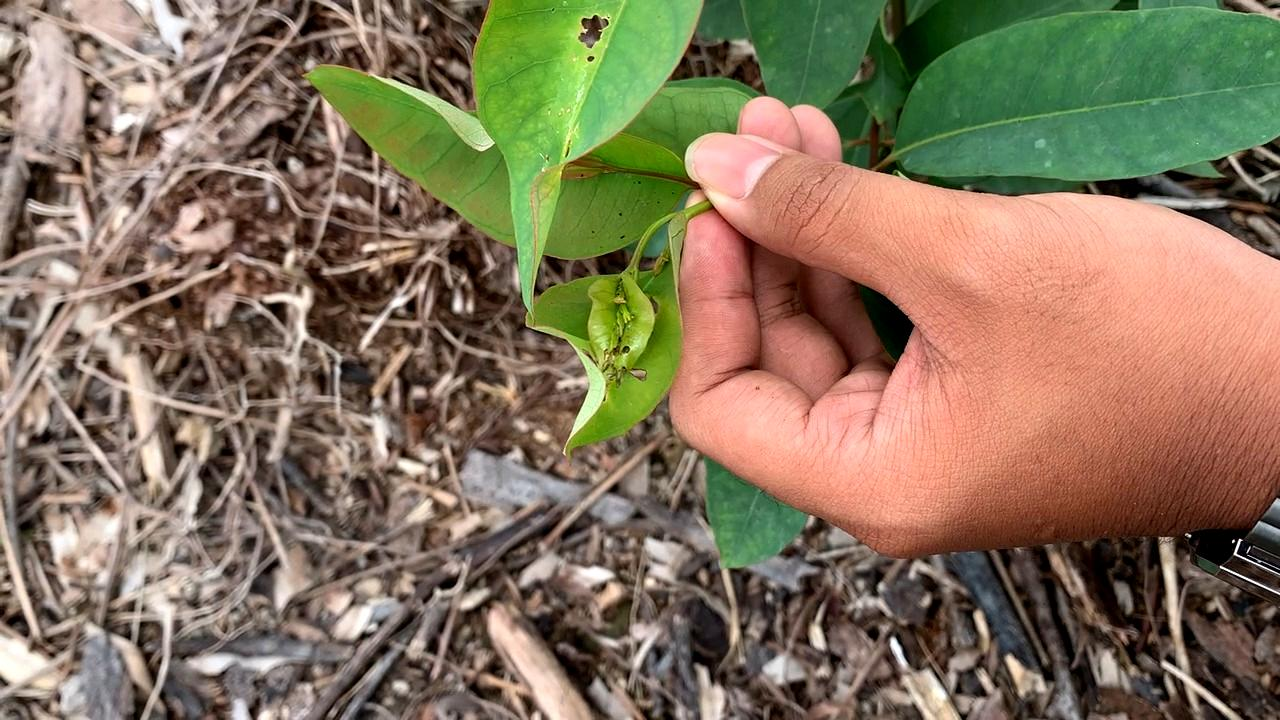Leaf Roller - Leaf: (589, 274, 651, 399)
